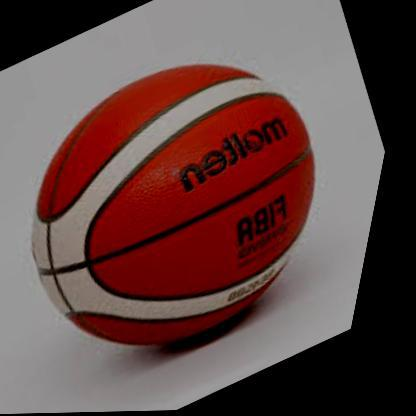basketball: (0, 17, 394, 395)
